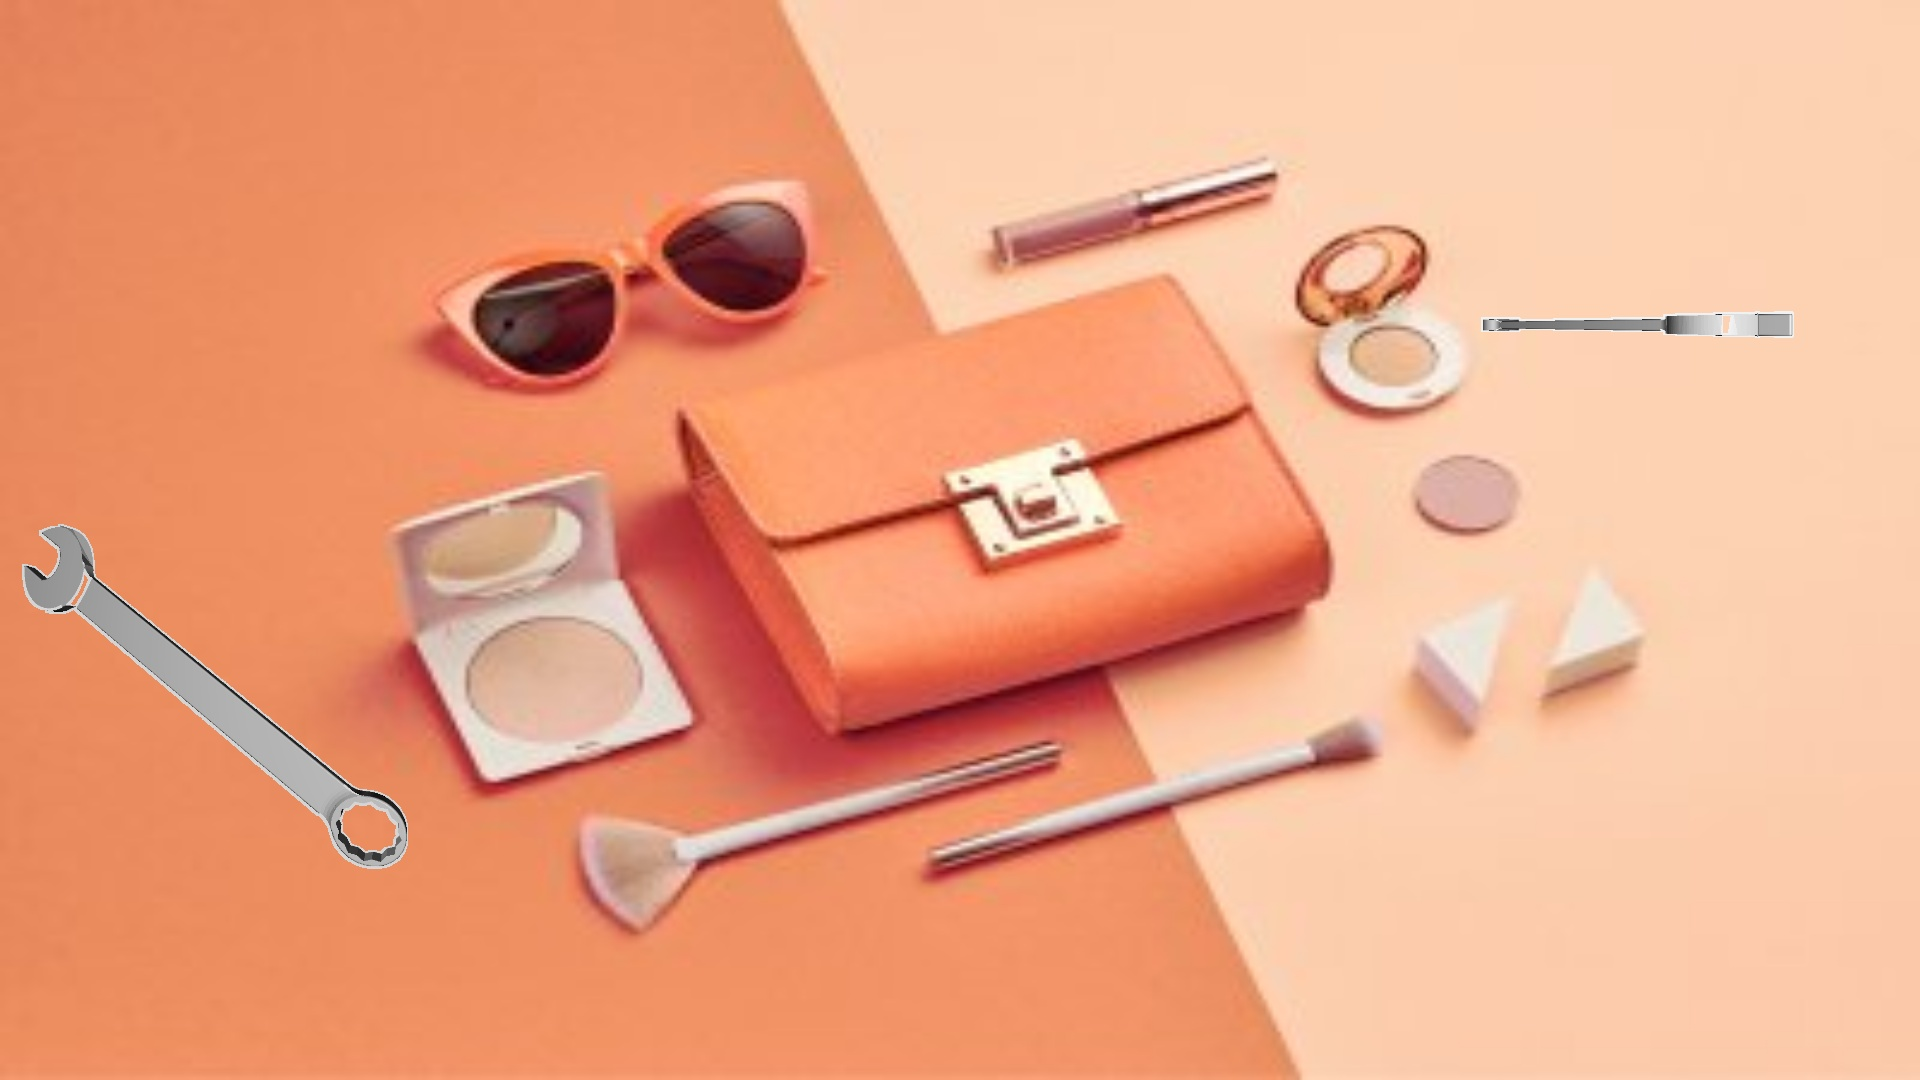Mixed Key: (22, 524, 407, 868), (1481, 311, 1793, 338)
